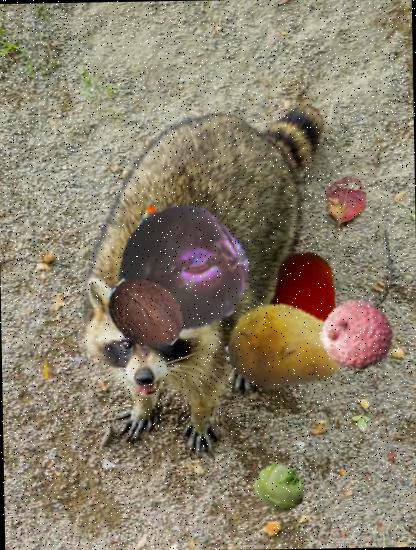Cocos: (102, 274, 185, 358)
Kohlrabi: (255, 460, 308, 513)
Lychee: (318, 297, 394, 373)
Nectarine: (252, 250, 360, 358)
Passion: (112, 199, 250, 338)
Potato: (218, 283, 346, 412)
